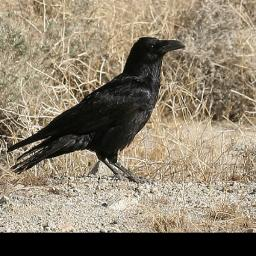Crow: (6, 36, 186, 183)
